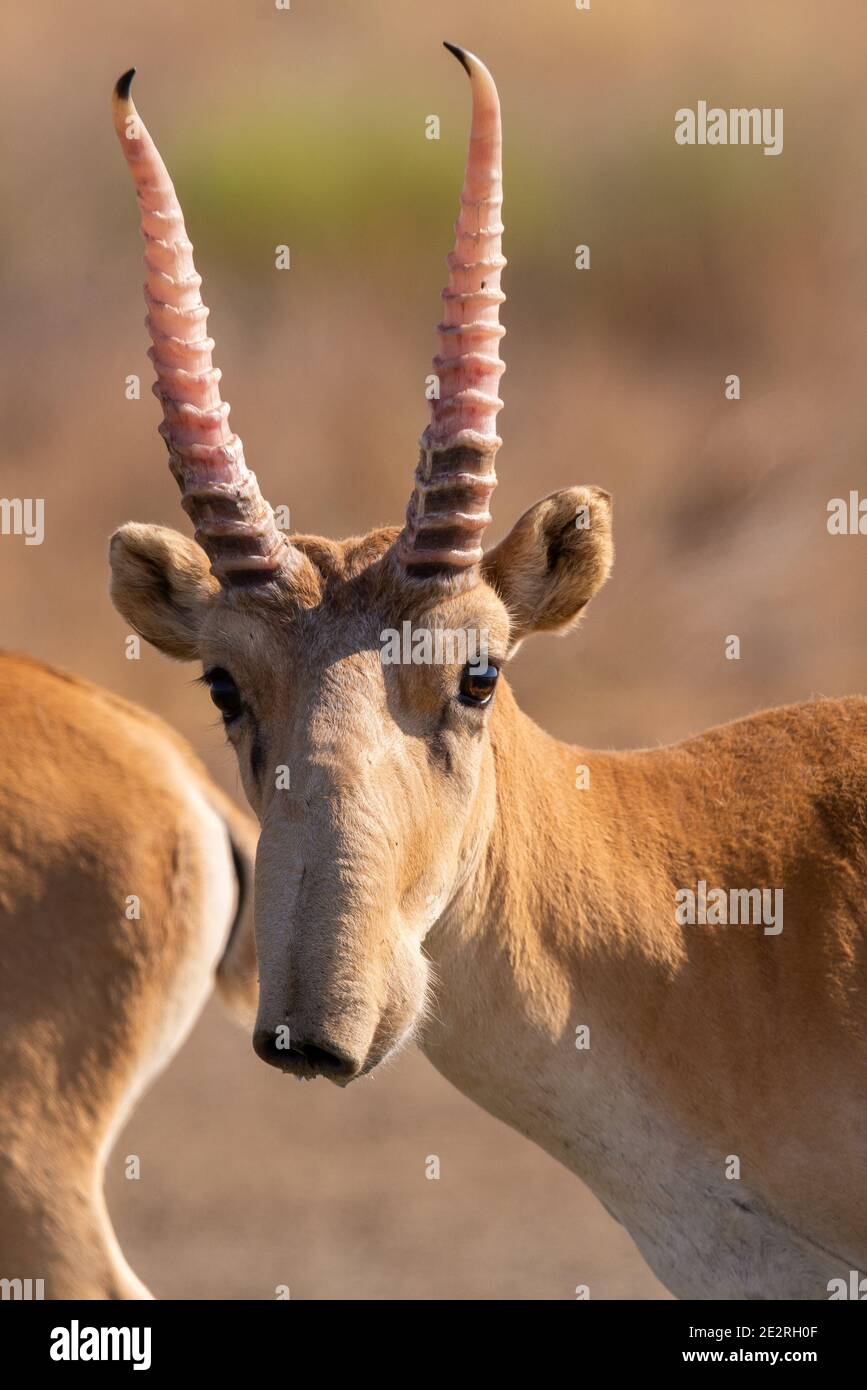saiga: (34, 39, 867, 1302)
